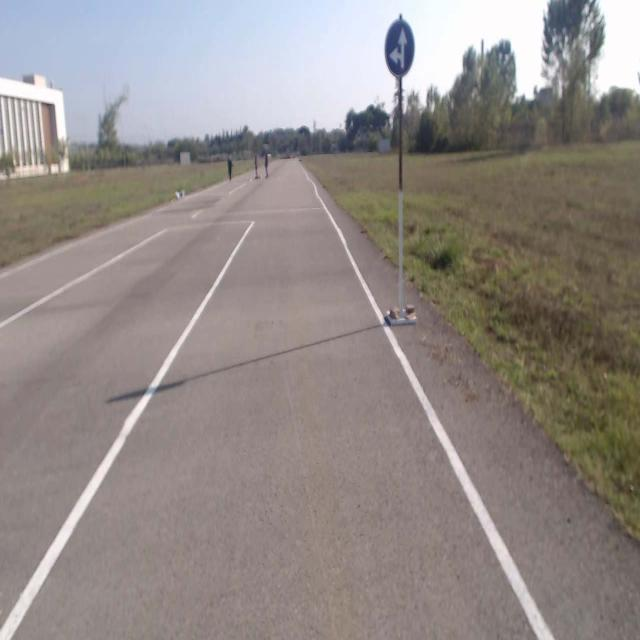ilerisol: (385, 19, 415, 76)
